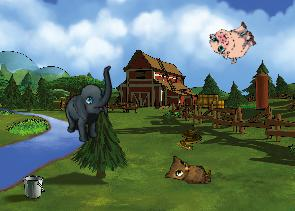elephant: (56, 65, 125, 145)
owl: (165, 155, 212, 184)
pig: (205, 14, 260, 68)
